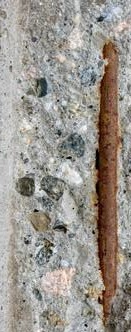Exposed reinforcement: (97, 40, 119, 322)
Spalling: (7, 1, 131, 332)
